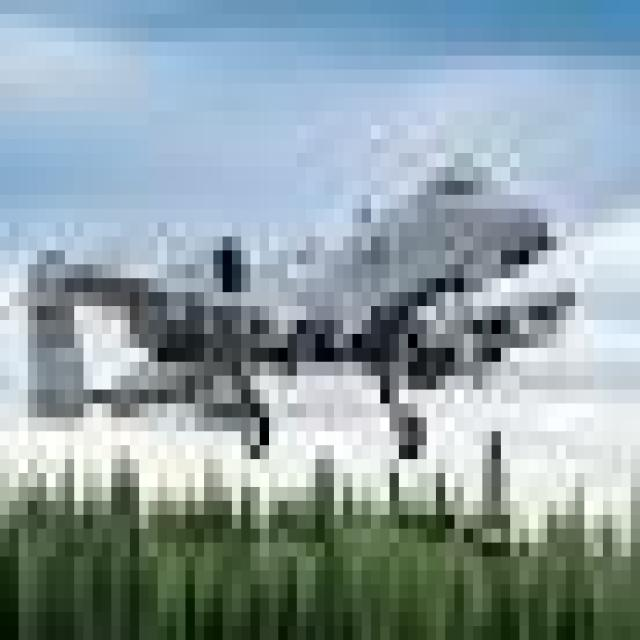A10: (9, 152, 616, 516)
